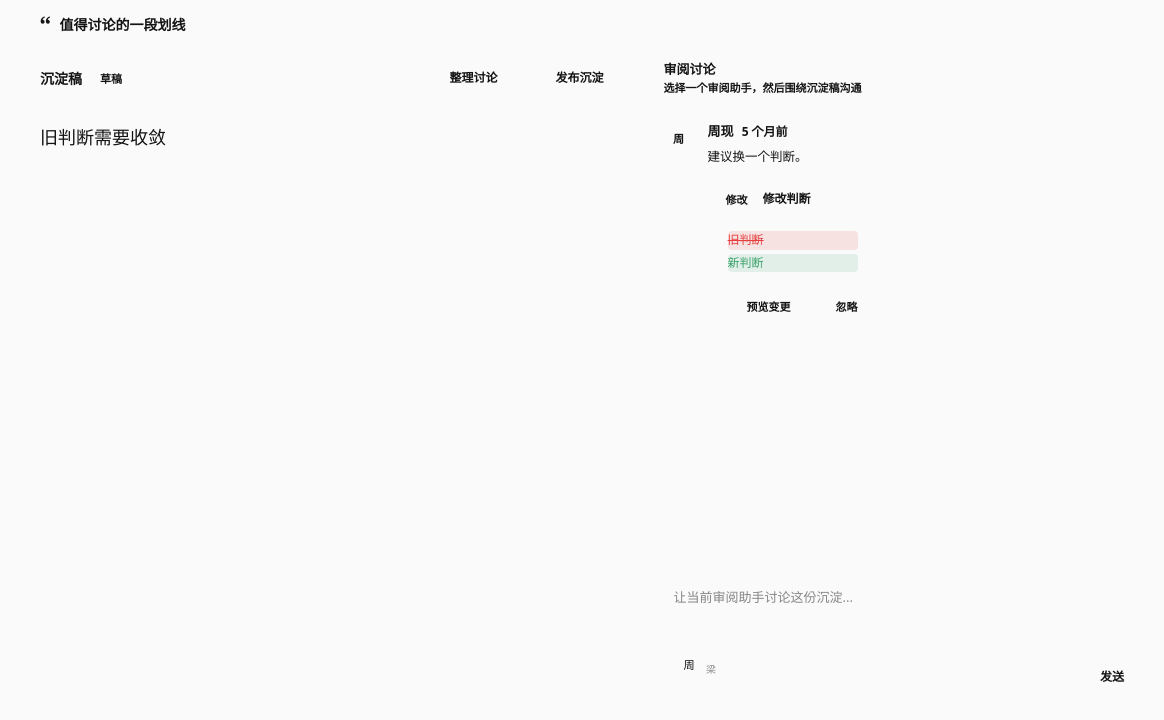
annotation distillation UI › discards a previewed proposal without changing the draft
Expected: the text "修改判断" is shown, [763, 190, 811, 208]
Step 1. Click the button "预览变更" → coordinates (759, 307), box [718, 291, 801, 323]
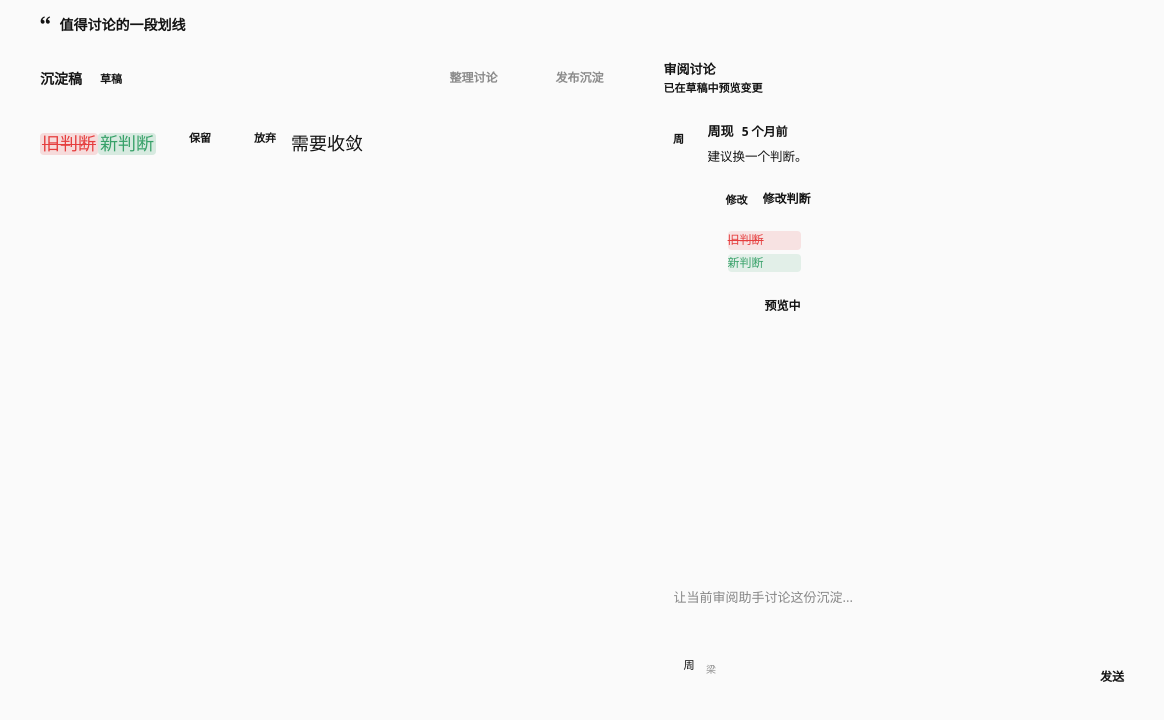
Result: the text "旧判断" in the row of "需要收敛" is shown at [42, 134, 96, 154]
Result: the text "新判断" in the row of "需要收敛" is shown at [100, 134, 154, 154]
Step 2. Click the button "放弃" → coordinates (256, 138), box [226, 122, 286, 154]
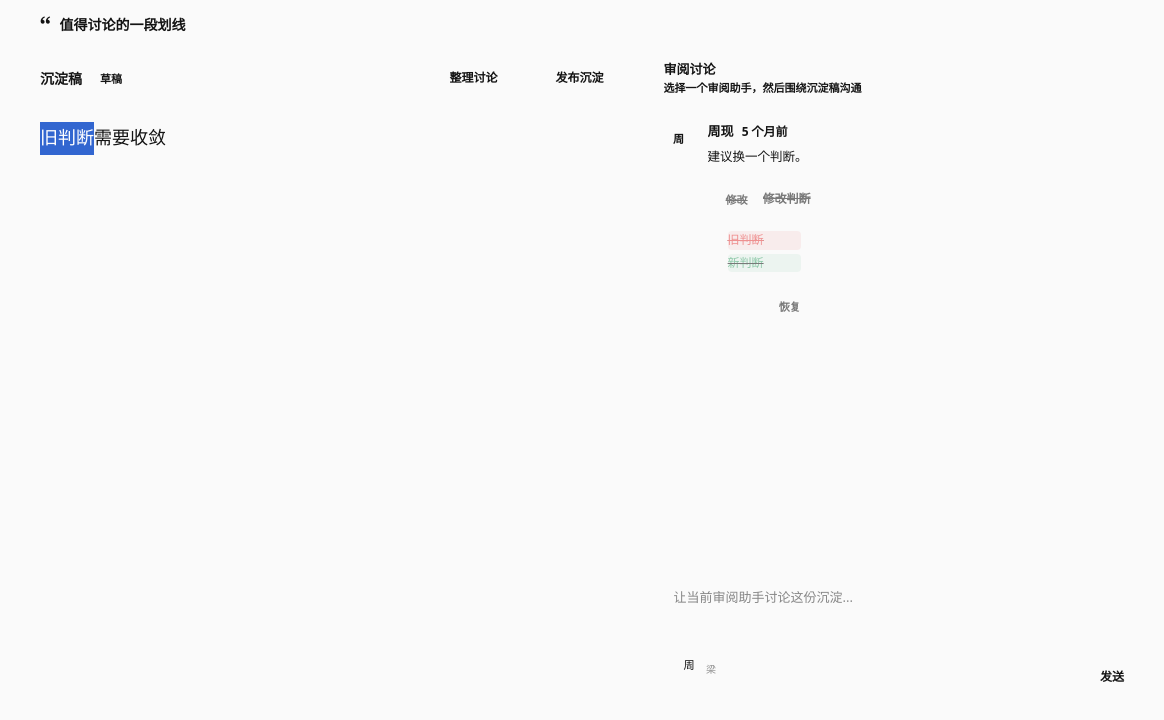
Expected: the 1st text box holds "旧判断需要收敛", [12, 104, 646, 719]
Result: the field labelled "草稿变更预览" is gone
